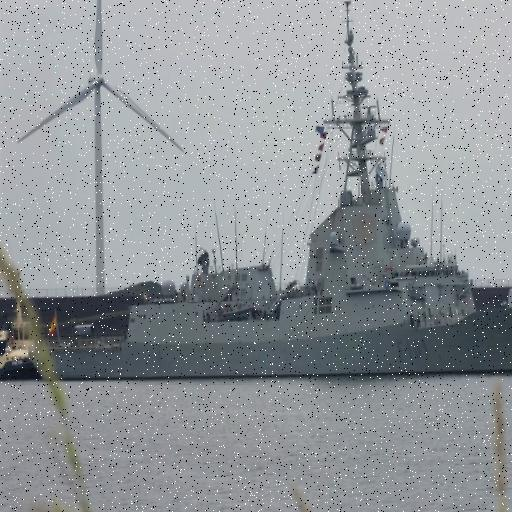Fragata: (28, 1, 512, 387)
